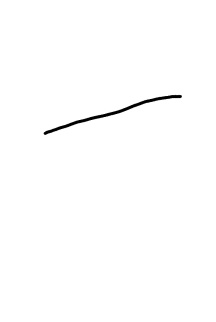Line: (39, 90, 187, 139)
